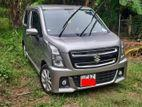car: (20, 3, 128, 100)
